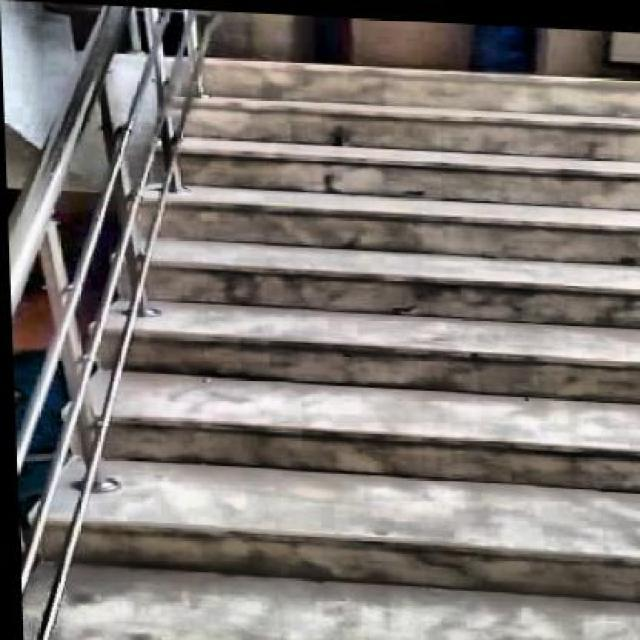stair: (74, 41, 638, 638)
